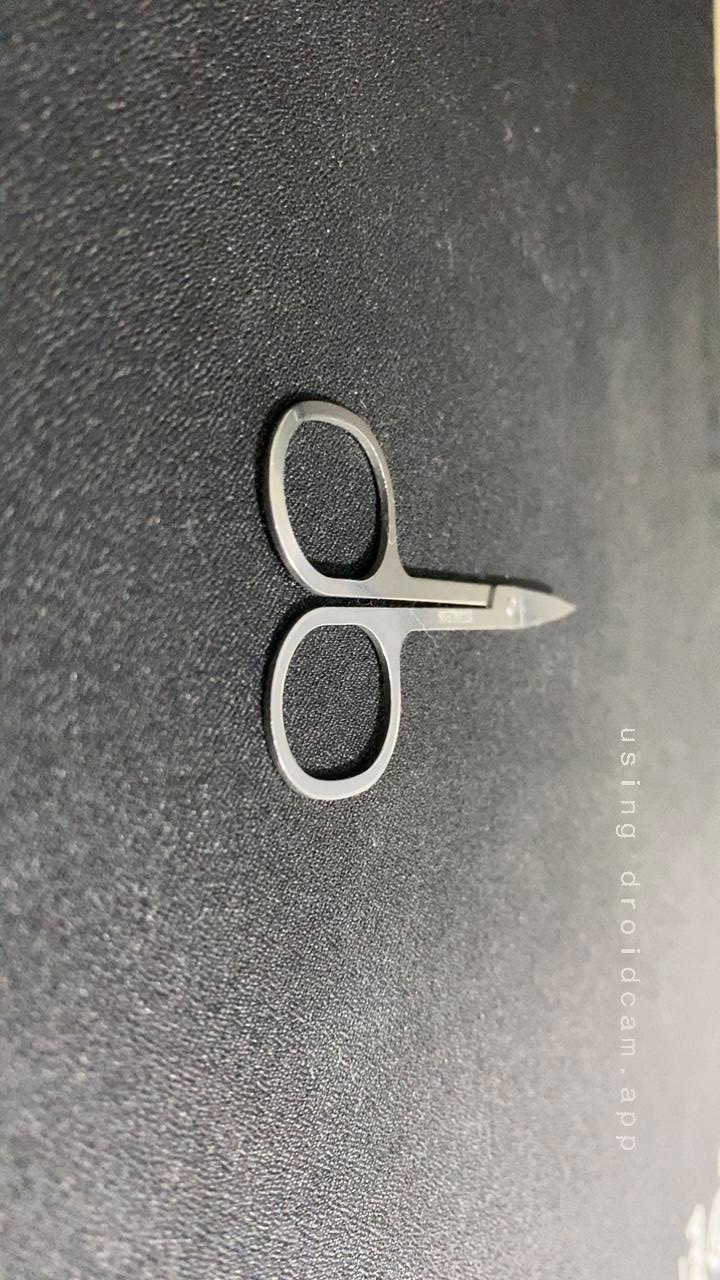scissor: (200, 395, 506, 812)
